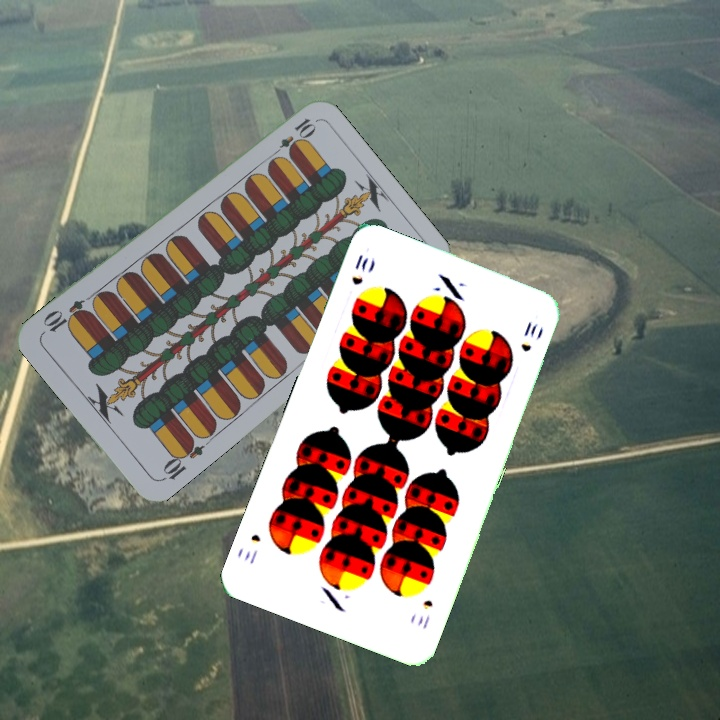E10: (157, 434, 207, 484), (267, 114, 318, 161)
S10: (347, 250, 371, 288), (413, 595, 436, 632)
